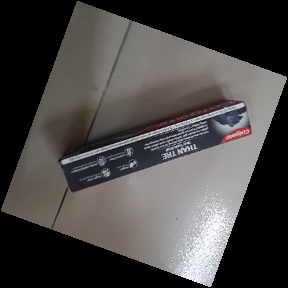Colgate Than: (58, 99, 253, 195)
